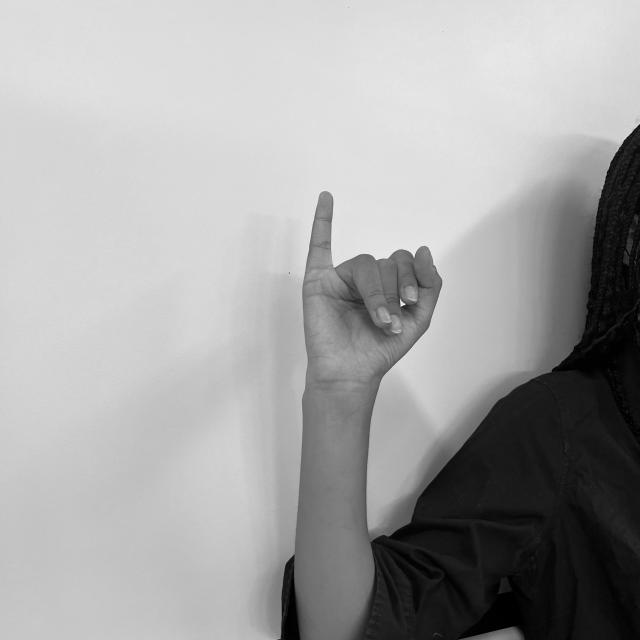Letra I: (298, 185, 447, 389)
